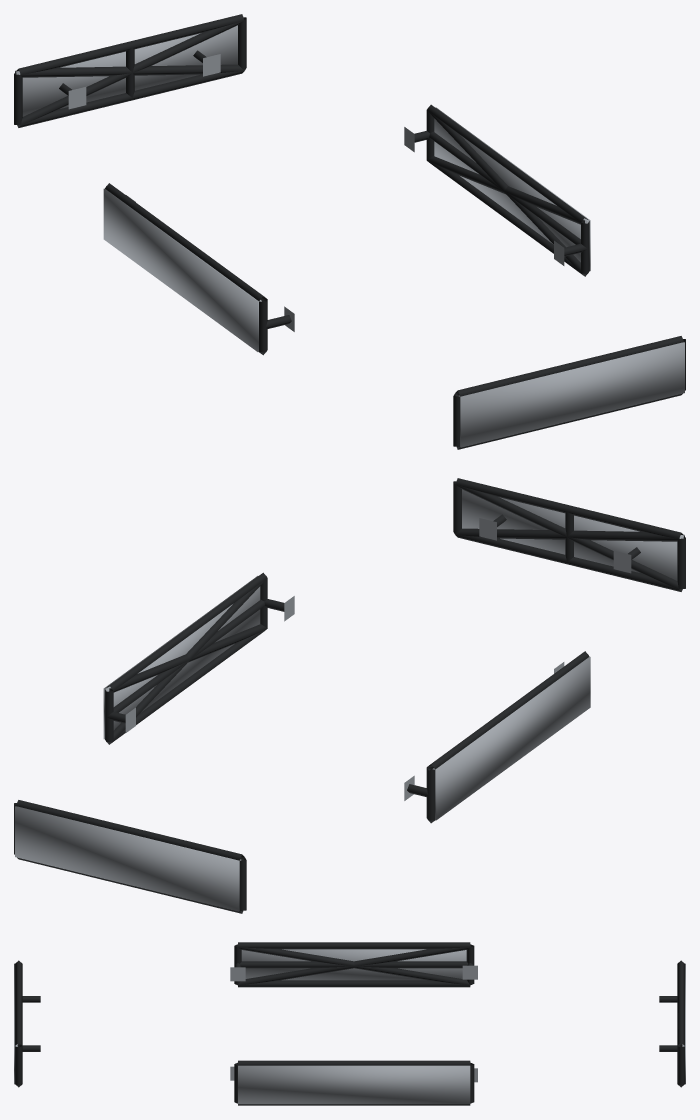
The model's file is hayase_cenario_protecao.glb.
3 views of the same model, one above another, from view 1: azimuth 30°, elevation 25°; view 2: azimuth 150°, elevation 25°; view 3: azimuth 270°, elevation 25° (orthographic). The views are drawn at different scales.
Visible parts, largest first — view 1: Protection_front_Level3_Details, Protection_left_Level3_Details, Protection_rear_Level1_Details, Protection_rear_Level3_Details, Protection_right_Level1_Details, Protection_rear_Level2_Details, Protection_right_Level2_Details, Protection_right_Level3_Details, Protection_front_Level1_Details, Protection_left_Level1_Details; view 2: Protection_rear_Level3_Details, Protection_left_Level3_Details, Protection_front_Level1_Details, Protection_front_Level3_Details, Protection_right_Level1_Details, Protection_front_Level2_Details, Protection_right_Level2_Details, Protection_right_Level3_Details, Protection_rear_Level1_Details, Protection_left_Level1_Details; view 3: Protection_right_Level3_Details, Protection_left_Level2_Details, Protection_left_Level1_Details, Protection_left_Level3_Details, Protection_right_Level1_Details, Protection_rear_Level1_Details, Protection_front_Level1_Details.
Boxes of the visible parts, x1,y1,x2,y2 form: Protection_front_Level3_Details: (458,342,684,447); Protection_left_Level3_Details: (103,188,261,351); Protection_rear_Level1_Details: (14,14,246,127); Protection_rear_Level3_Details: (15,25,237,116); Protection_right_Level1_Details: (404,104,589,276); Protection_rear_Level2_Details: (16,20,244,126); Protection_right_Level2_Details: (427,110,587,276); Protection_right_Level3_Details: (434,107,590,270); Protection_front_Level1_Details: (453,336,685,449); Protection_left_Level1_Details: (105,183,294,355); Protection_rear_Level3_Details: (15,806,241,911); Protection_left_Level3_Details: (432,656,590,820); Protection_front_Level1_Details: (453,478,685,591); Protection_front_Level3_Details: (462,489,684,580); Protection_right_Level1_Details: (105,572,294,744); Protection_front_Level2_Details: (455,484,683,590); Protection_right_Level2_Details: (105,579,267,744); Protection_right_Level3_Details: (103,576,260,739); Protection_rear_Level1_Details: (14,800,246,913); Protection_left_Level1_Details: (404,651,589,823); Protection_right_Level3_Details: (238,1065,470,1104); Protection_left_Level2_Details: (237,945,470,985); Protection_left_Level1_Details: (230,942,477,987); Protection_left_Level3_Details: (241,949,466,980); Protection_right_Level1_Details: (230,1060,477,1105); Protection_rear_Level1_Details: (659,960,684,1087); Protection_front_Level1_Details: (15,960,40,1087).
Size of the model in its own units: 2.07 by 0.354 by 4.8.
1 material, 1 textured.
